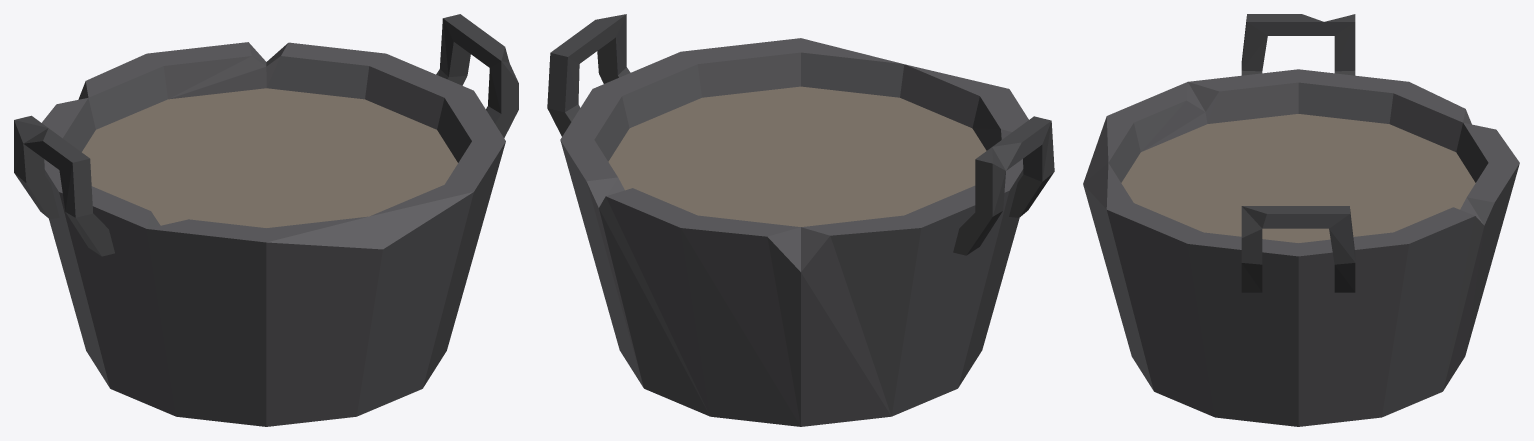
The model's file is SM_Prop_Scrub_Bucket_01.glb.
The picture shows the model from 3 angles, left to right: view 1: azimuth 30°, elevation 25°; view 2: azimuth 150°, elevation 25°; view 3: azimuth 270°, elevation 25°; orthographic projection. The views are drawn at different scales.
Parts seen in each view (by area): view 1: SM_Prop_Scrub_Bucket_01_part00; view 2: SM_Prop_Scrub_Bucket_01_part00; view 3: SM_Prop_Scrub_Bucket_01_part00.
Part boxes in pixels (<box>): SM_Prop_Scrub_Bucket_01_part00: <box>14,14,518,426</box>; SM_Prop_Scrub_Bucket_01_part00: <box>547,14,1054,426</box>; SM_Prop_Scrub_Bucket_01_part00: <box>1083,14,1519,426</box>.
Size of the model in its own units: 0.6549 by 0.3671 by 0.5993.
1 material, 1 textured.
